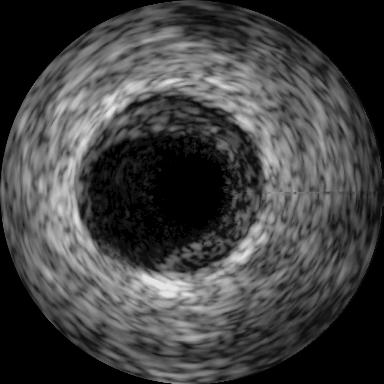Lumen: (151, 151, 227, 230)
